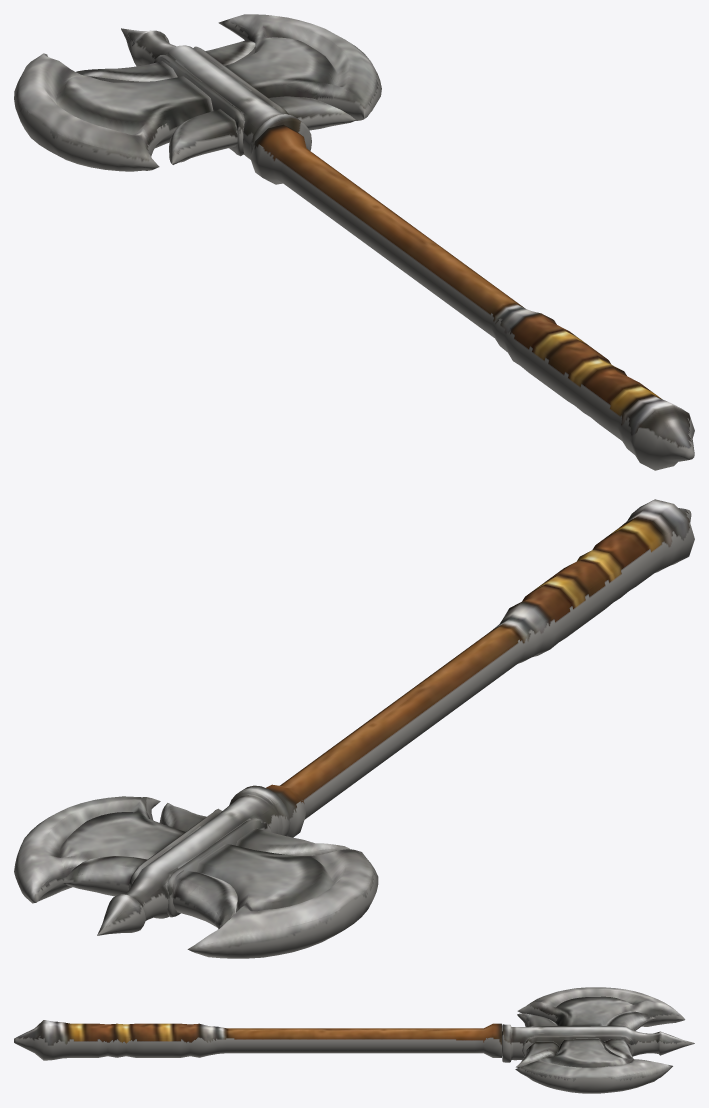
File: item_mm9_10183.glb
The picture shows the model from 3 angles, top to bottom: view 1: azimuth 30°, elevation 25°; view 2: azimuth 150°, elevation 25°; view 3: azimuth 270°, elevation 25°; orthographic projection. The views are drawn at different scales.
Visible parts, largest first — view 1: d10183; view 2: d10183; view 3: d10183.
Boxes of the visible parts, bbox=[...] form: d10183: bbox=[14, 14, 694, 470]; d10183: bbox=[14, 499, 694, 958]; d10183: bbox=[14, 987, 694, 1093].
Bounding box in the file's own units: 40.41 × 7.36 × 128.
1 material, 1 textured.
